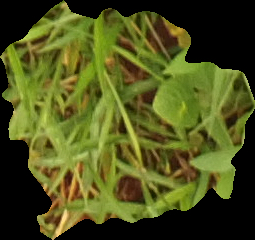grass: (2, 1, 253, 239)
